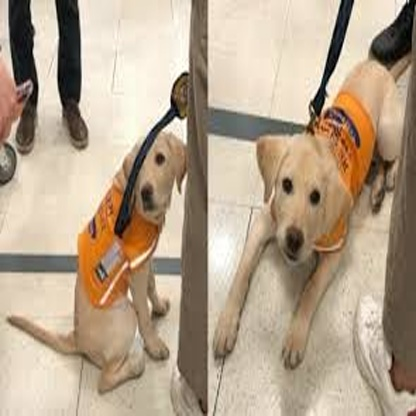guide-dog: (206, 55, 404, 370), (18, 128, 182, 399)
